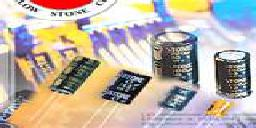Electrolytic-Capacitor: (21, 51, 107, 128), (89, 65, 151, 128), (213, 48, 256, 102), (154, 84, 199, 128), (202, 96, 234, 128)
